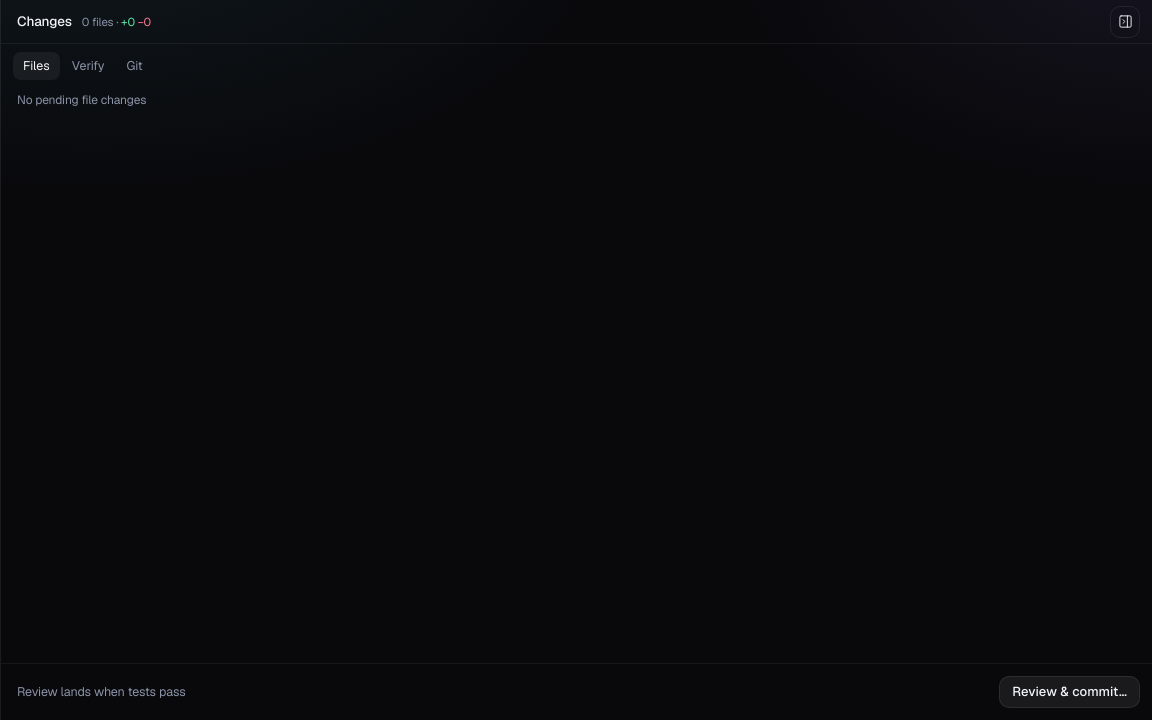
Test case: singleton one-entry Git list is not suppressed (AC-04)
Click the tab "Git" at x=134, y=66, box [116,52,153,80]
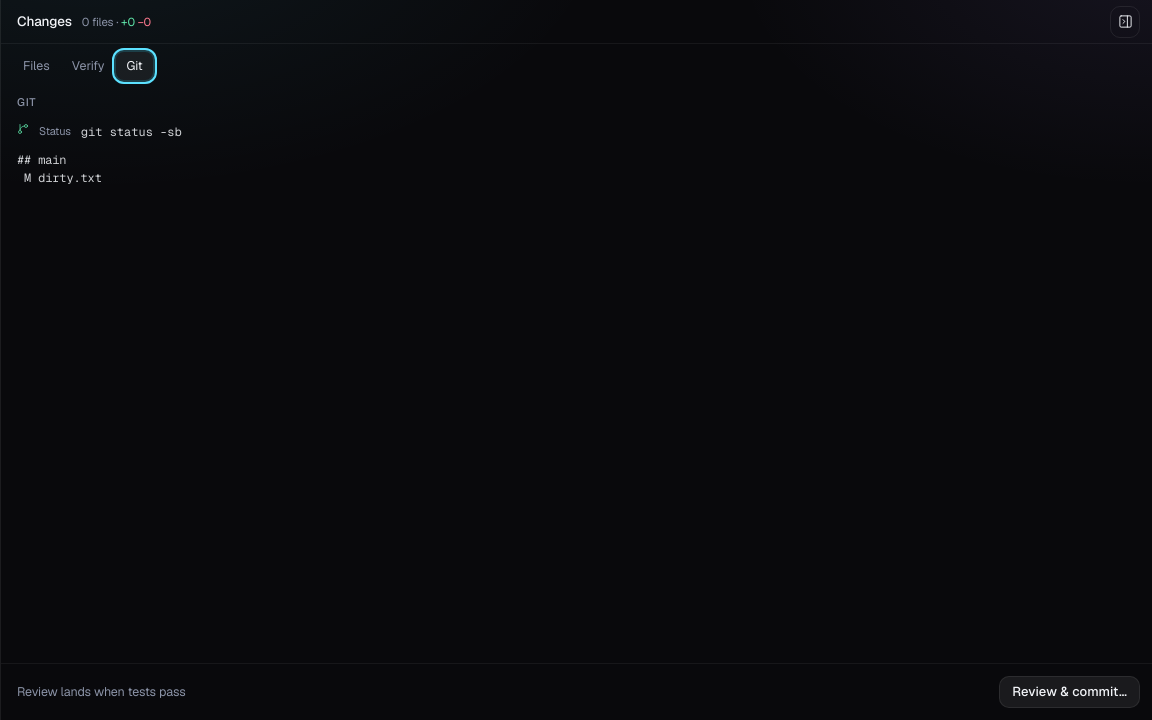
Now the text "git status -sb" is shown, box [81,122,182,140]
